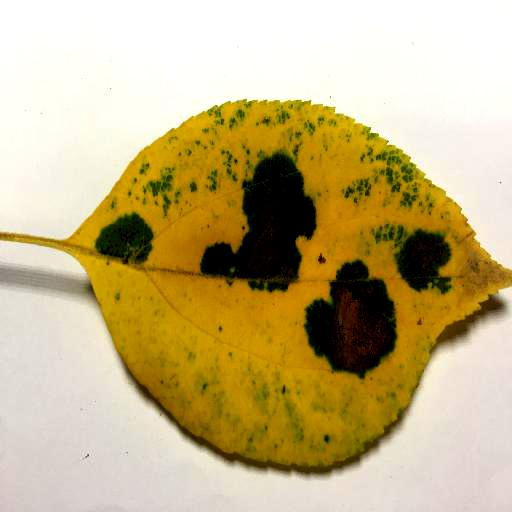Brown_Spot: (220, 149, 302, 279), (321, 278, 384, 368), (401, 234, 448, 303)
